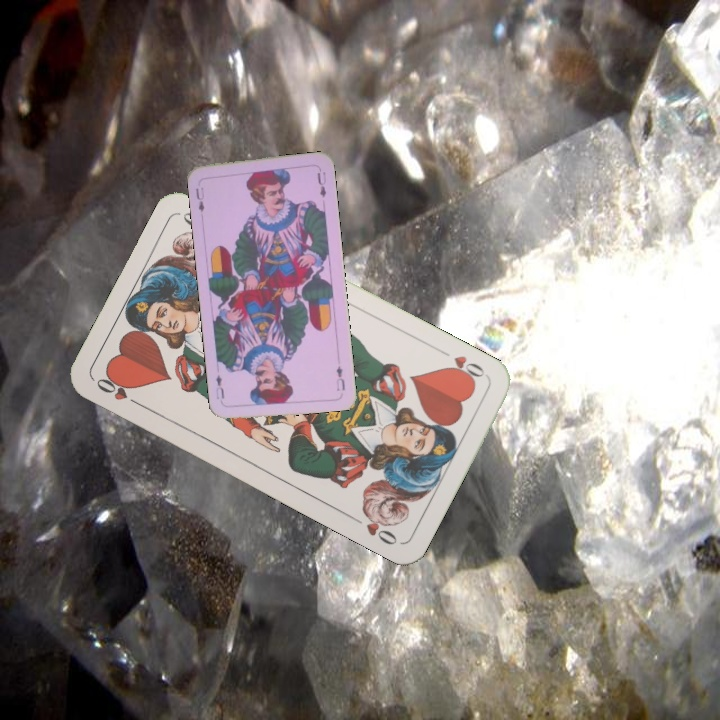EU: (191, 184, 207, 215), (332, 362, 348, 393)
HO: (435, 345, 488, 386), (92, 370, 145, 410)
